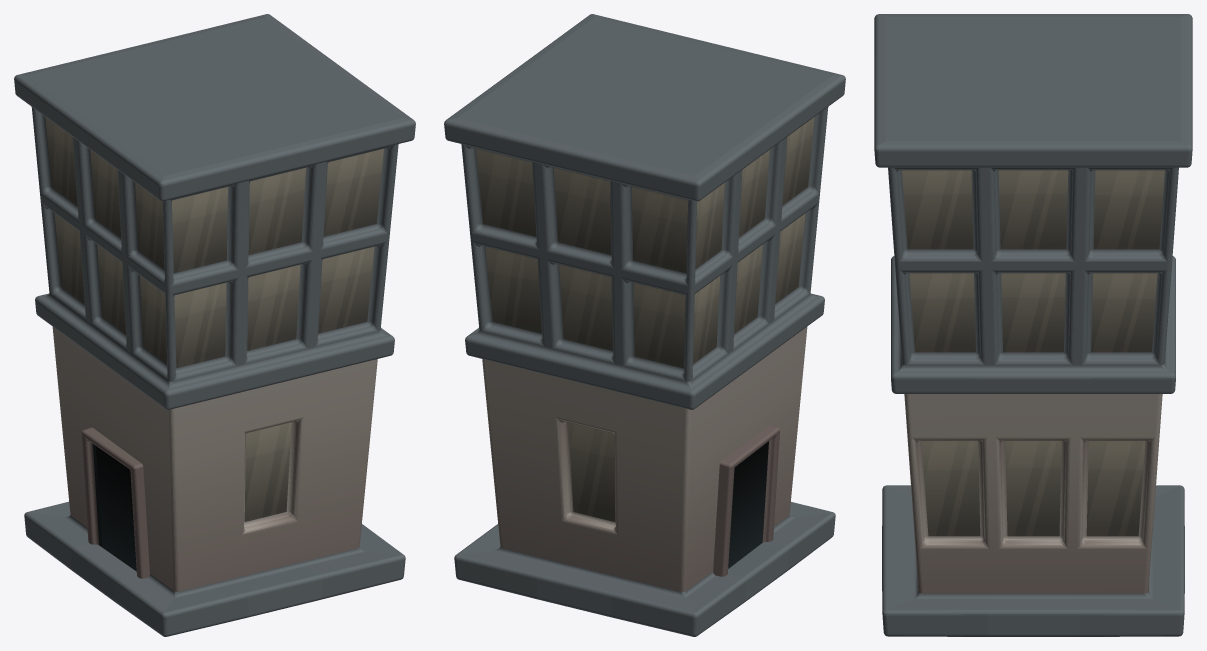
The model's file is EDIFICIO MEDIANO.fbx.
3 views of the same model, side by side, from view 1: azimuth 30°, elevation 25°; view 2: azimuth 150°, elevation 25°; view 3: azimuth 270°, elevation 25° (orthographic). The views are drawn at different scales.
Parts seen in each view (by area): view 1: edificio 2.001; view 2: edificio 2.001; view 3: edificio 2.001.
Part boxes in pixels (<box>): edificio 2.001: <box>14,14,415,636</box>; edificio 2.001: <box>444,14,845,636</box>; edificio 2.001: <box>874,14,1192,636</box>.
Size of the model in its own units: 1334 by 1334 by 2292.
2 materials, 2 textured.
